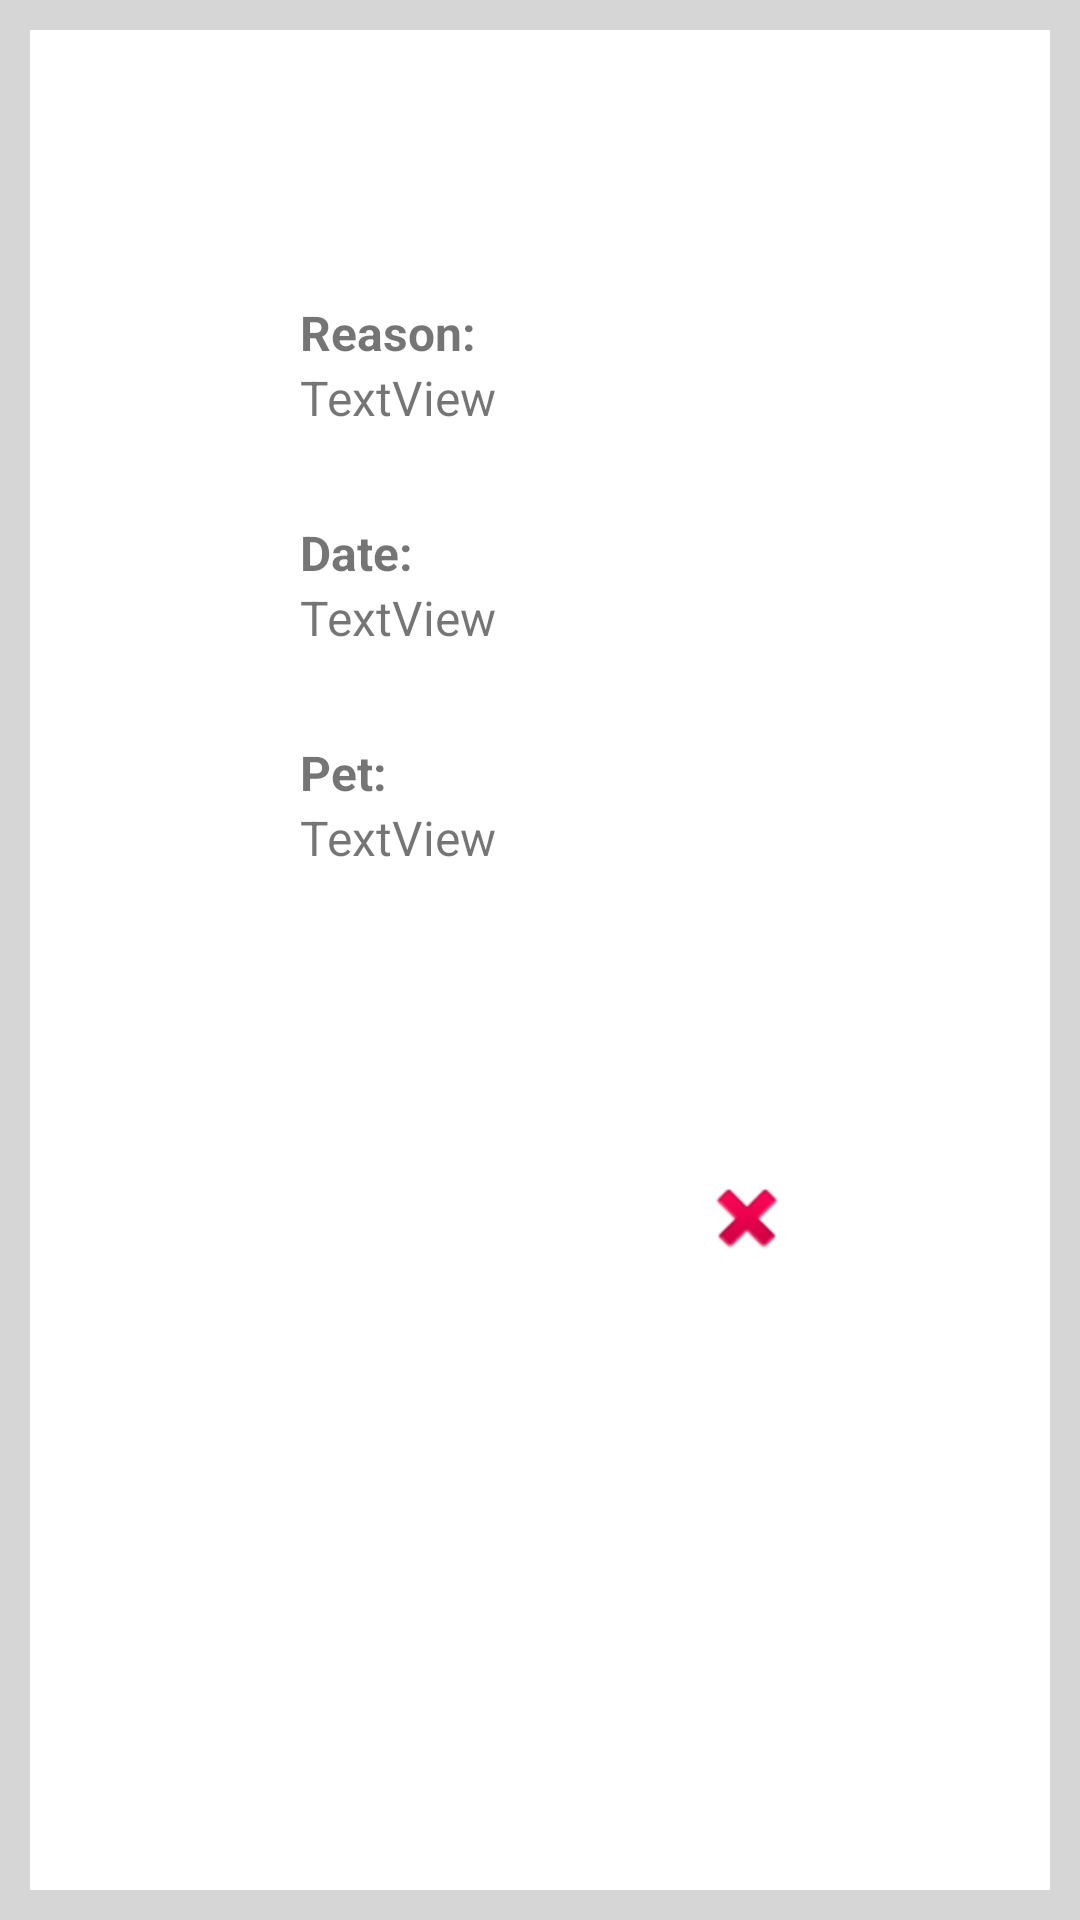

Where to tap for icons on this 1080px x 1920px app screen, as (x,y):
delete: (747,1218)
